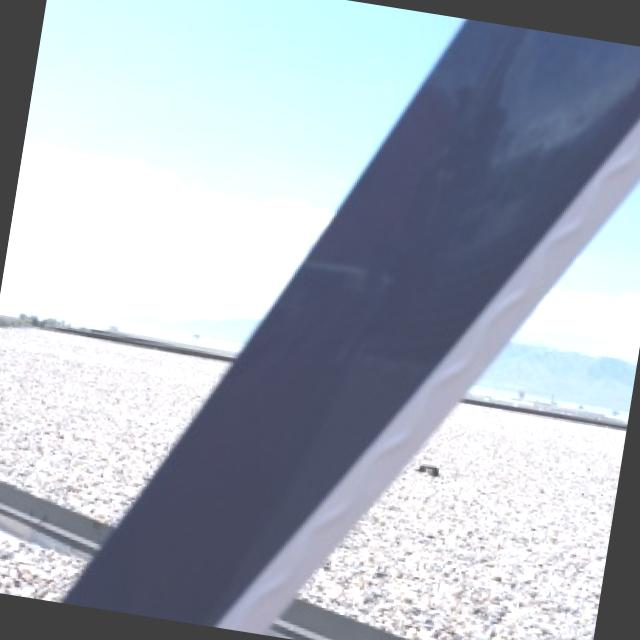healthy: (29, 0, 640, 633)
